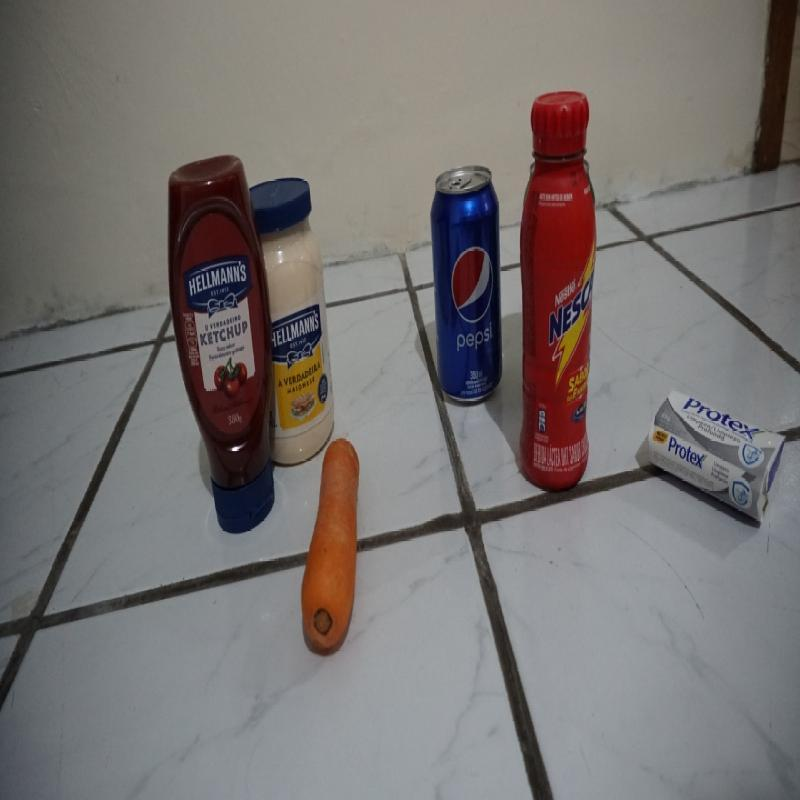Carrot: (306, 440, 357, 646)
Chocolate Milk: (517, 93, 595, 493)
Ketchup: (166, 160, 276, 522)
Mayonnaise: (254, 176, 334, 467)
Soap: (649, 394, 786, 518)
Soda can: (432, 167, 504, 397)
